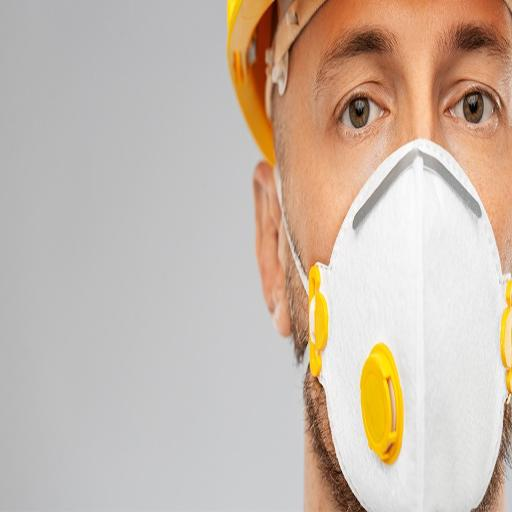mask: (306, 137, 509, 512)
